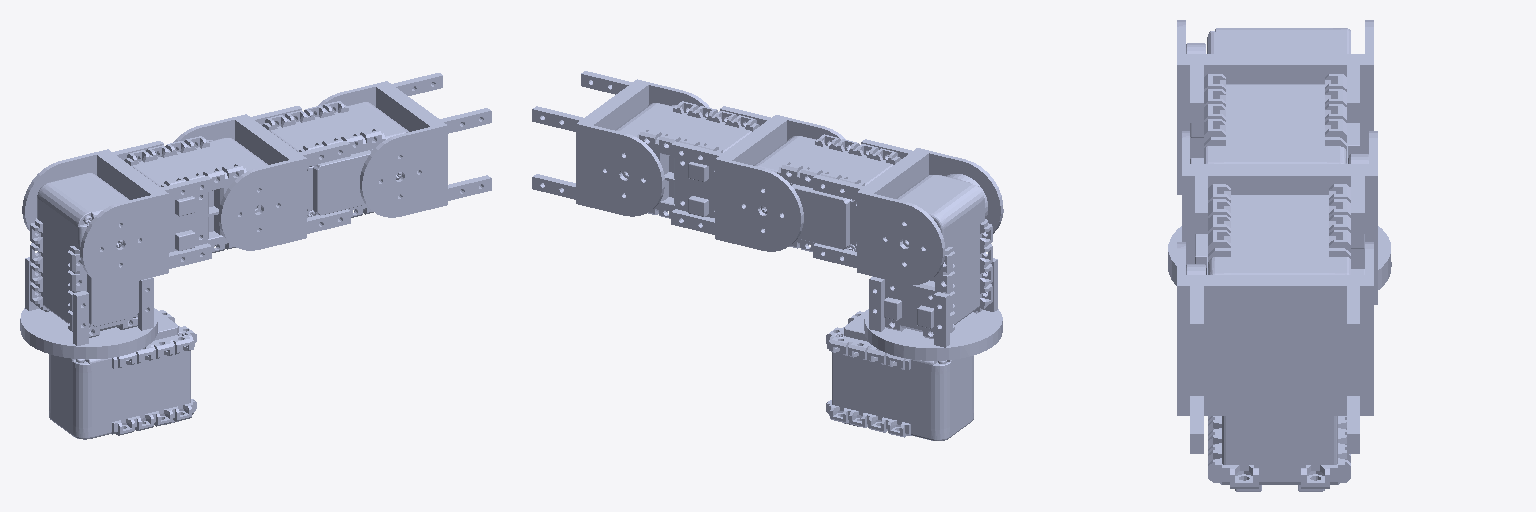
The robot description file, URDF, robot "ACPS-URDF":
<?xml version="1.0" encoding="utf-8"?>
<!-- This URDF was automatically created by SolidWorks to URDF Exporter! Originally created by [author] ([email redacted]) 
     Commit Version: 1.6.0-4-g7f85cfe  Build Version: 1.6.7995.38578
     For more information, please see http://wiki.ros.org/sw_urdf_exporter -->
<robot
  name="ACPS-URDF">
  <link
    name="base_link">
    <inertial>
      <origin
        xyz="-0.019877 0.012957 0.006213"
        rpy="0 0 0" />
      <mass
        value="0.043005" />
      <inertia
        ixx="3.5652E-06"
        ixy="-3.2723E-08"
        ixz="9.8437E-12"
        iyy="9.9719E-06"
        iyz="6.3535E-13"
        izz="8.7138E-06" />
    </inertial>
    <visual>
      <origin
        xyz="0 0 0"
        rpy="0 0 0" />
      <geometry>
        <mesh
          filename="package://ACPS-URDF/meshes/base_link.STL" />
      </geometry>
      <material
        name="">
        <color
          rgba="0.79216 0.81961 0.93333 1" />
      </material>
    </visual>
    <collision>
      <origin
        xyz="0 0 0"
        rpy="0 0 0" />
      <geometry>
        <mesh
          filename="package://ACPS-URDF/meshes/base_link.STL" />
      </geometry>
    </collision>
  </link>
  <link
    name="link_1">
    <inertial>
      <origin
        xyz="-0.01247 0.052242 0.0076389"
        rpy="0 0 0" />
      <mass
        value="0.053822" />
      <inertia
        ixx="1.0804E-05"
        ixy="9.8437E-12"
        ixz="-6.3535E-13"
        iyy="7.1817E-06"
        iyz="3.2723E-08"
        izz="1.1924E-05" />
    </inertial>
    <visual>
      <origin
        xyz="0 0 0"
        rpy="0 0 0" />
      <geometry>
        <mesh
          filename="package://ACPS-URDF/meshes/link_1.STL" />
      </geometry>
      <material
        name="">
        <color
          rgba="0.79216 0.81961 0.93333 1" />
      </material>
    </visual>
    <collision>
      <origin
        xyz="0 0 0"
        rpy="0 0 0" />
      <geometry>
        <mesh
          filename="package://ACPS-URDF/meshes/link_1.STL" />
      </geometry>
    </collision>
  </link>
  <joint
    name="theta_1"
    type="continuous">
    <origin
      xyz="-0.020018 0.00045924 0.0059483"
      rpy="1.5708 0 0" />
    <parent
      link="base_link" />
    <child
      link="link_1" />
    <axis
      xyz="0 0 0" />
    <limit
      lower="0"
      upper="0"
      effort="0"
      velocity="0" />
  </joint>
  <link
    name="link_2">
    <inertial>
      <origin
        xyz="0.026086 0.070299 0.0067412"
        rpy="0 0 0" />
      <mass
        value="0.055878" />
      <inertia
        ixx="7.9123E-06"
        ixy="9.8437E-12"
        ixz="-3.2723E-08"
        iyy="1.3121E-05"
        iyz="6.3535E-13"
        izz="1.2397E-05" />
    </inertial>
    <visual>
      <origin
        xyz="0 0 0"
        rpy="0 0 0" />
      <geometry>
        <mesh
          filename="package://ACPS-URDF/meshes/link_2.STL" />
      </geometry>
      <material
        name="">
        <color
          rgba="0.79216 0.81961 0.93333 1" />
      </material>
    </visual>
    <collision>
      <origin
        xyz="0 0 0"
        rpy="0 0 0" />
      <geometry>
        <mesh
          filename="package://ACPS-URDF/meshes/link_2.STL" />
      </geometry>
    </collision>
  </link>
  <joint
    name="theta_2"
    type="revolute">
    <origin
      xyz="0 0 0"
      rpy="0 0 0" />
    <parent
      link="link_1" />
    <child
      link="link_2" />
    <axis
      xyz="0 0 0" />
    <limit
      lower="0"
      upper="0"
      effort="0"
      velocity="0" />
  </joint>
  <link
    name="link_3">
    <inertial>
      <origin
        xyz="0.084636 0.070299 0.0076034"
        rpy="0 0 0" />
      <mass
        value="0.055878" />
      <inertia
        ixx="7.9123E-06"
        ixy="-9.8437E-12"
        ixz="3.2723E-08"
        iyy="1.3121E-05"
        iyz="6.3535E-13"
        izz="1.2397E-05" />
    </inertial>
    <visual>
      <origin
        xyz="0 0 0"
        rpy="0 0 0" />
      <geometry>
        <mesh
          filename="package://ACPS-URDF/meshes/link_3.STL" />
      </geometry>
      <material
        name="">
        <color
          rgba="0.79216 0.81961 0.93333 1" />
      </material>
    </visual>
    <collision>
      <origin
        xyz="0 0 0"
        rpy="0 0 0" />
      <geometry>
        <mesh
          filename="package://ACPS-URDF/meshes/link_3.STL" />
      </geometry>
    </collision>
  </link>
  <joint
    name="theta_3"
    type="revolute">
    <origin
      xyz="0 0 0"
      rpy="0 0 0" />
    <parent
      link="link_2" />
    <child
      link="link_3" />
    <axis
      xyz="0 0 0" />
    <limit
      lower="0"
      upper="0"
      effort="0"
      velocity="0" />
  </joint>
  <link
    name="link_4">
    <inertial>
      <origin
        xyz="4.1633E-16 0.022 -0.013893"
        rpy="0 0 0" />
      <mass
        value="0.012873" />
      <inertia
        ixx="4.4076E-06"
        ixy="-4.171E-21"
        ixz="-2.233E-20"
        iyy="2.4256E-06"
        iyz="-2.5782E-21"
        izz="4.3471E-06" />
    </inertial>
    <visual>
      <origin
        xyz="0 0 0"
        rpy="0 0 0" />
      <geometry>
        <mesh
          filename="package://ACPS-URDF/meshes/link_4.STL" />
      </geometry>
      <material
        name="">
        <color
          rgba="0.79216 0.81961 0.93333 1" />
      </material>
    </visual>
    <collision>
      <origin
        xyz="0 0 0"
        rpy="0 0 0" />
      <geometry>
        <mesh
          filename="package://ACPS-URDF/meshes/link_4.STL" />
      </geometry>
    </collision>
  </link>
  <joint
    name="theta_4"
    type="revolute">
    <origin
      xyz="0.10463 0.070299 0.029672"
      rpy="-1.5708 0 1.5708" />
    <parent
      link="link_3" />
    <child
      link="link_4" />
    <axis
      xyz="0 0 0" />
    <limit
      lower="0"
      upper="0"
      effort="0"
      velocity="0" />
  </joint>
</robot>

--- Render facts (derived) ---
Views: 3 orthographic renders of the robot side by side, from view 1: azimuth 30°, elevation 25°; view 2: azimuth 150°, elevation 25°; view 3: azimuth 270°, elevation 25°.
Robot: ACPS-URDF — 5 links, 4 joints (3 revolute, 1 continuous); root link base_link; default pose: every joint at zero.
Links seen in each view (by area): view 1: link_2, link_3, link_1, base_link, link_4; view 2: link_2, link_3, link_1, base_link, link_4; view 3: link_4, link_2, link_3, base_link, link_1.
Boxes of the visible links, x1=… form: link_2: x1=22, y1=136, x2=277, y2=285; link_3: x1=173, y1=101, x2=418, y2=250; link_1: x1=20, y1=173, x2=157, y2=359; base_link: x1=49, y1=308, x2=196, y2=439; link_4: x1=313, y1=73, x2=491, y2=217; link_2: x1=744, y1=134, x2=1003, y2=284; link_3: x1=606, y1=101, x2=850, y2=251; link_1: x1=864, y1=174, x2=1002, y2=360; base_link: x1=826, y1=309, x2=973, y2=440; link_4: x1=532, y1=71, x2=709, y2=216; link_4: x1=1177, y1=242, x2=1373, y2=453; link_2: x1=1177, y1=20, x2=1373, y2=194; link_3: x1=1182, y1=131, x2=1377, y2=304; base_link: x1=1208, y1=416, x2=1350, y2=491; link_1: x1=1168, y1=28, x2=1391, y2=289.
Size in the robot's own frame: 0.1821 by 0.0499 by 0.0995 metres.
Meshes: 5 distinct files referenced, 5 mesh visuals loaded (5 binary STL).